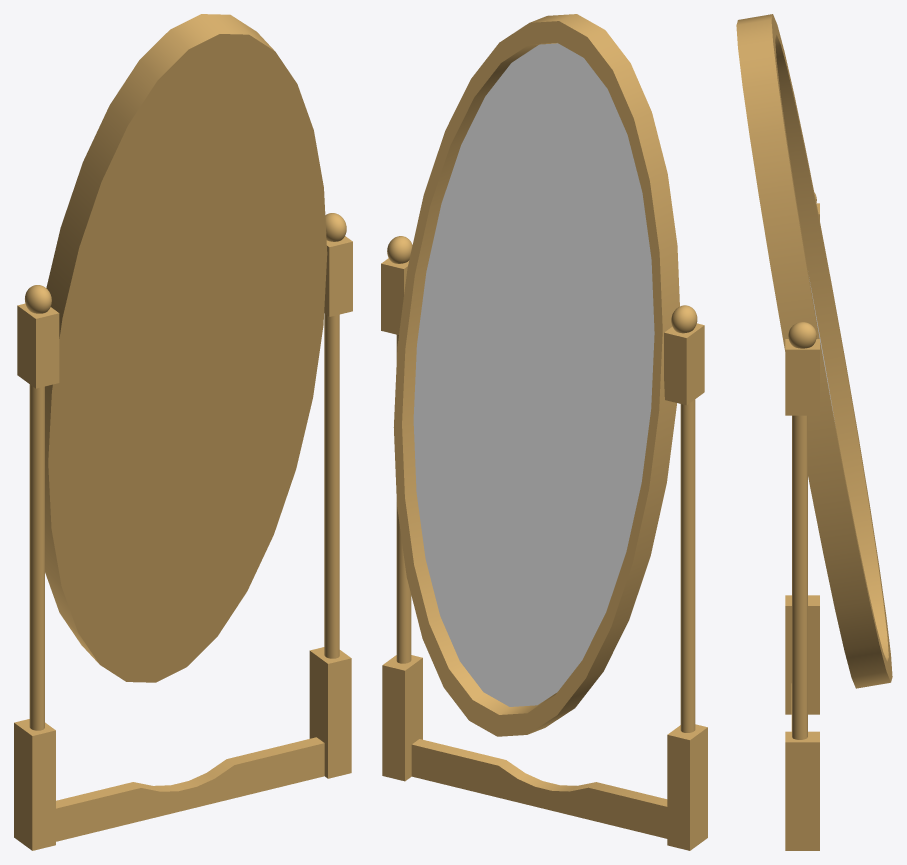
The model's file is mirror.fbx.
3 views of the same model, side by side, from view 1: azimuth 30°, elevation 25°; view 2: azimuth 150°, elevation 25°; view 3: azimuth 270°, elevation 25° (orthographic). The views are drawn at different scales.
Visible parts, largest first — view 1: Object009; view 2: Object009; view 3: Object009.
Part boxes in pixels (x1=…): Object009: x1=14, y1=14, x2=352, y2=850; Object009: x1=381, y1=14, x2=707, y2=850; Object009: x1=736, y1=14, x2=892, y2=850.
Bounding box in the file's own units: 112 × 267 × 49.77.
